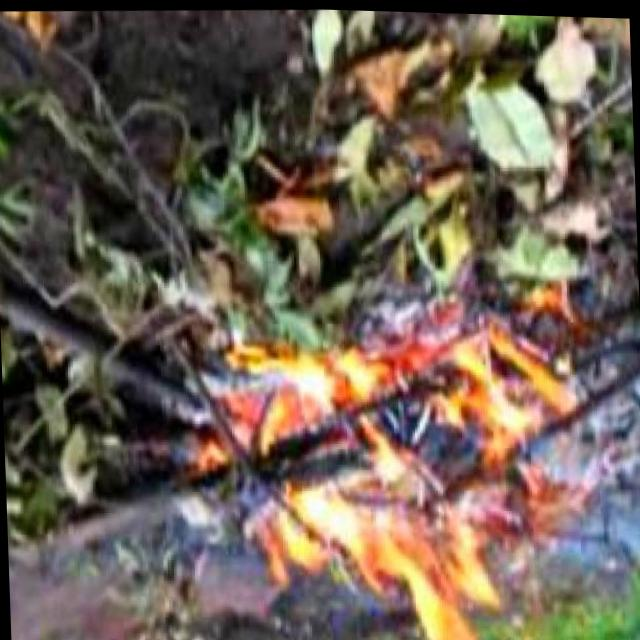Fire: (227, 303, 568, 640)
